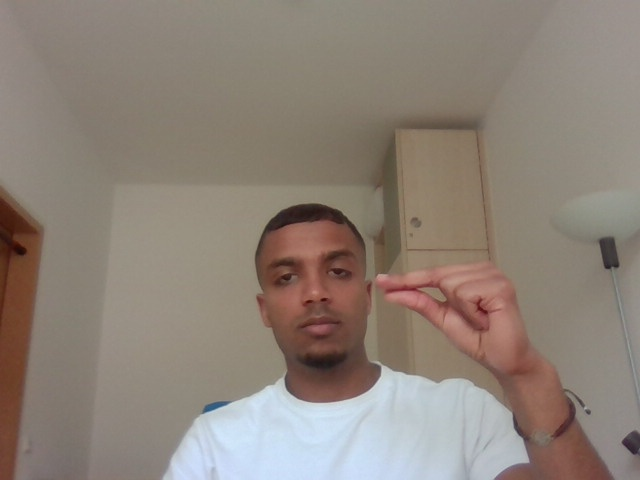no: (375, 253, 564, 396)
